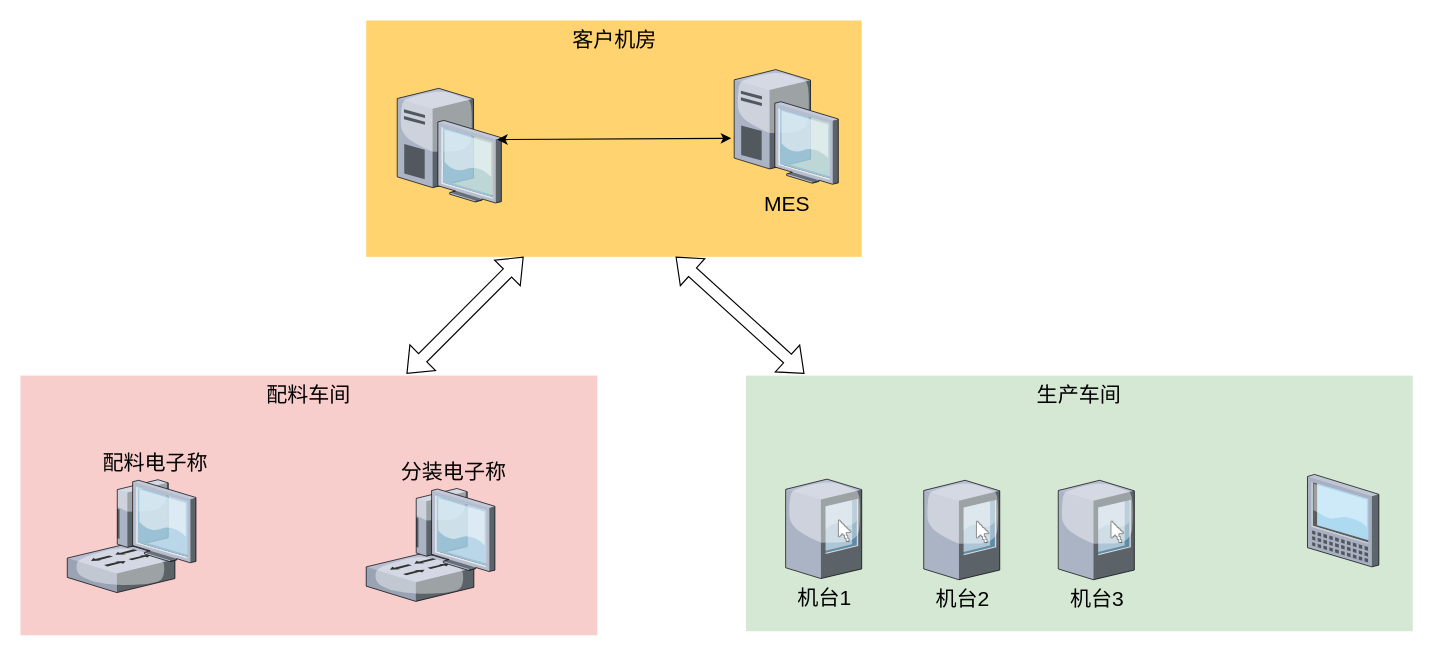
Some shapes in this 1432 by 655 pixel diagram are drawn without their labels. Each missing label, with the centre of its shape:
"ERP" belongs at point 449,145.
"大屏看板" belongs at point 1342,520.
